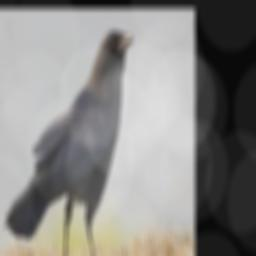Crow: (4, 29, 136, 256)
